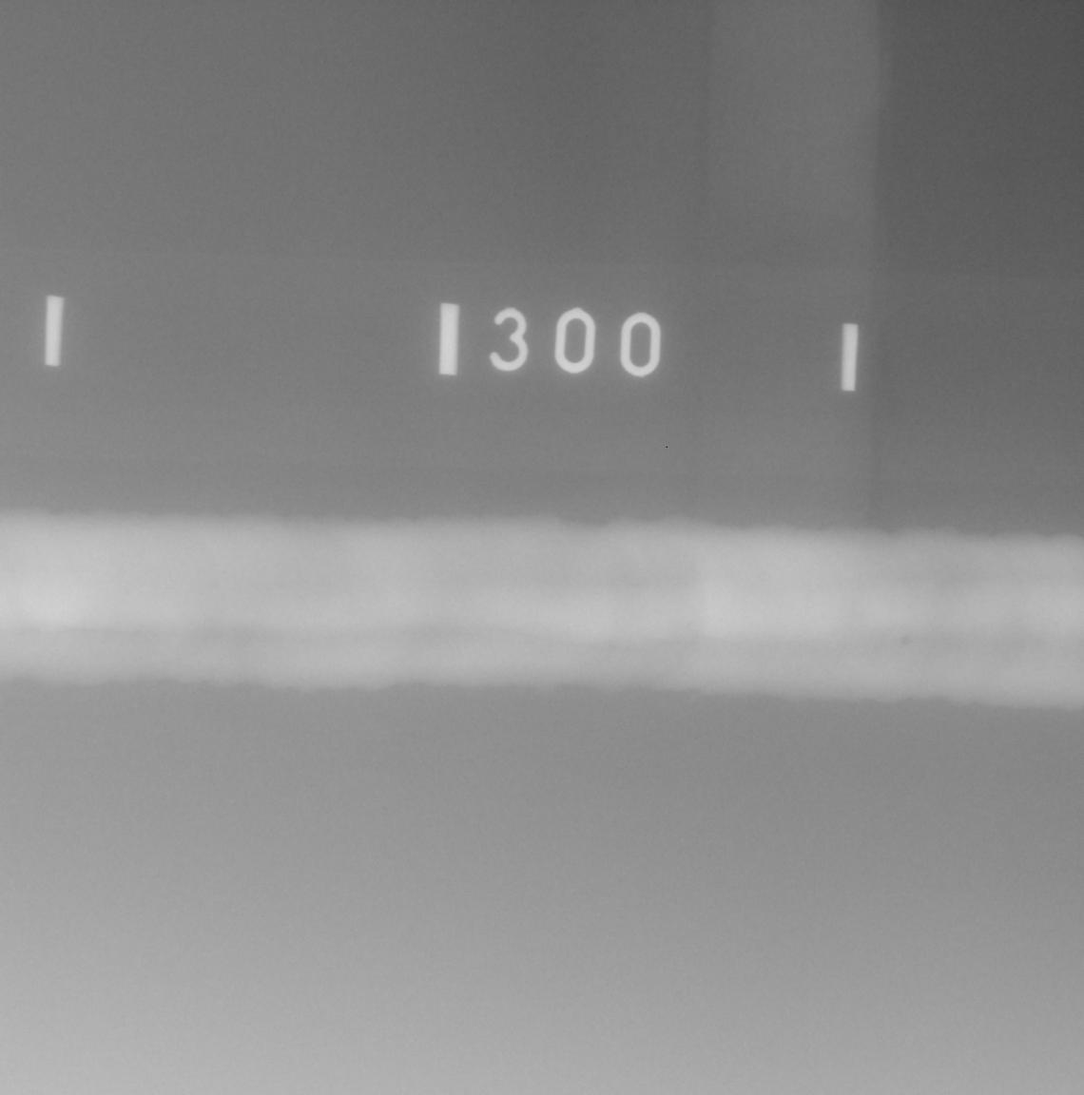Pore/Porosity: (900, 635, 909, 645)
